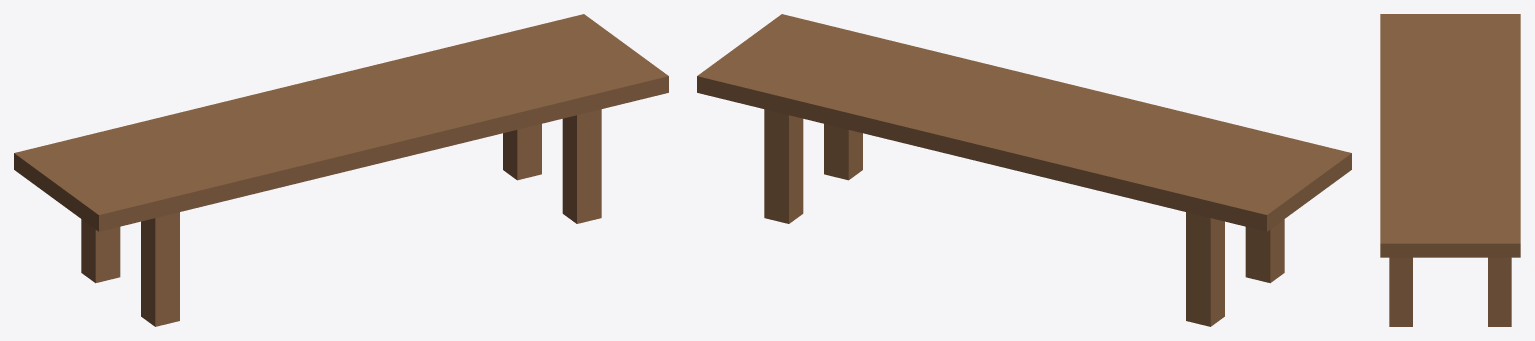
File: Bench_02.fbx
The picture shows the model from 3 angles, left to right: view 1: azimuth 30°, elevation 25°; view 2: azimuth 150°, elevation 25°; view 3: azimuth 270°, elevation 25°; orthographic projection. The views are drawn at different scales.
Parts seen in each view (by area): view 1: Bench_02; view 2: Bench_02; view 3: Bench_02.
Boxes of the visible parts, bbox=[...] form: Bench_02: bbox=[14, 14, 668, 326]; Bench_02: bbox=[697, 14, 1351, 326]; Bench_02: bbox=[1380, 14, 1520, 326].
Size of the model in its own units: 4.18 by 0.9176 by 1.08.
